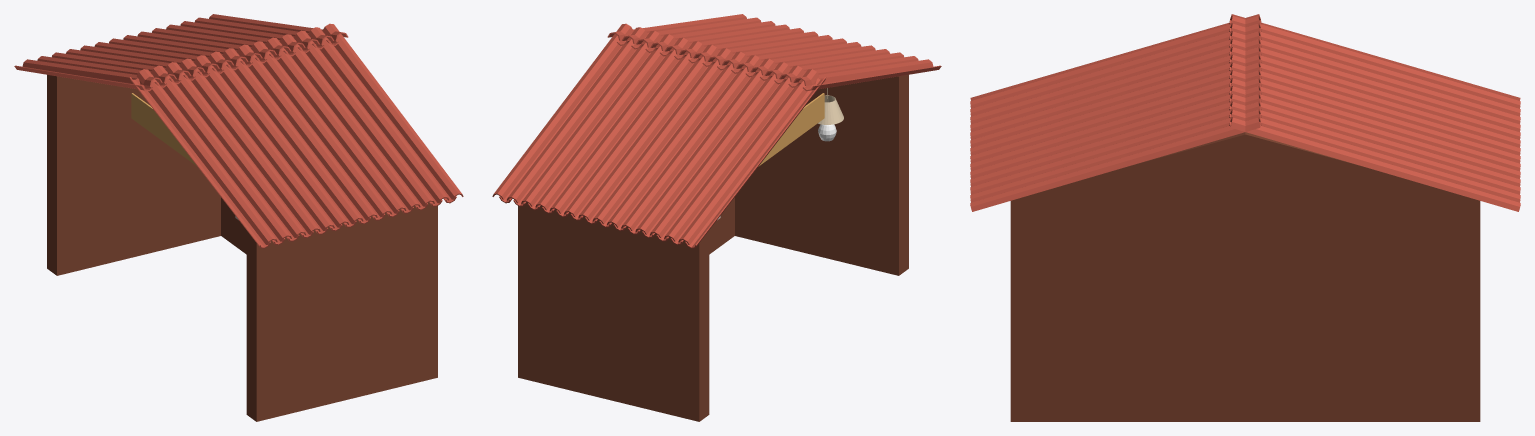
File: shooting range.fbx
The picture shows the model from 3 angles, left to right: view 1: azimuth 30°, elevation 25°; view 2: azimuth 150°, elevation 25°; view 3: azimuth 270°, elevation 25°; orthographic projection. The views are drawn at different scales.
Parts seen in each view (by area): view 1: Wall, Roof.001, Plane.002; view 2: Wall, Roof.001, Plane.002, Lamp_base.001; view 3: Wall, Roof.001.
Boxes of the visible parts, bbox=[...] form: Wall: bbox=[47, 74, 437, 421]; Roof.001: bbox=[14, 14, 463, 248]; Plane.002: bbox=[131, 93, 197, 166]; Wall: bbox=[518, 74, 908, 421]; Roof.001: bbox=[492, 14, 941, 248]; Plane.002: bbox=[758, 93, 824, 166]; Lamp_base.001: bbox=[818, 88, 843, 141]; Wall: bbox=[1010, 132, 1480, 421]; Roof.001: bbox=[970, 14, 1520, 211].
Bounding box in the file's own units: 227 × 287 × 469.
